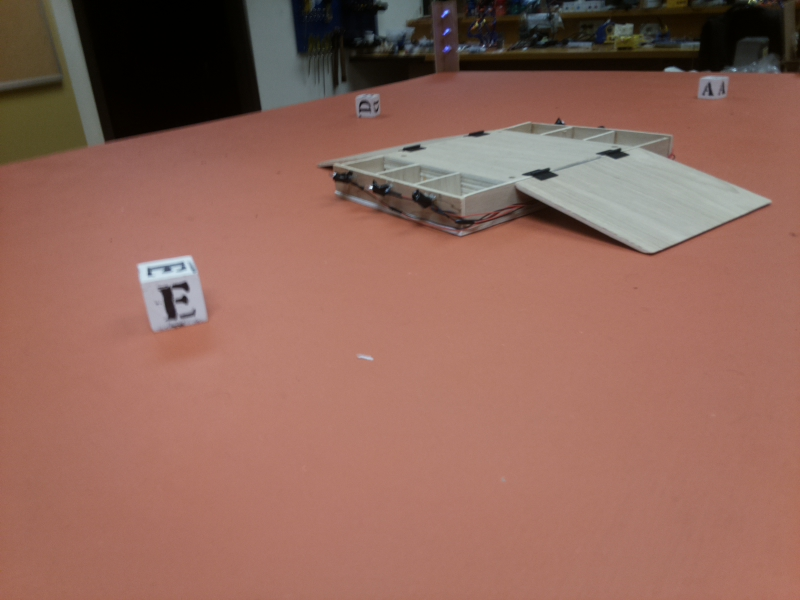blockA: (699, 75, 728, 106)
blockD: (352, 93, 382, 119)
blockE: (135, 256, 206, 332)
side: (327, 162, 465, 250), (520, 116, 673, 139)
slope: (514, 147, 770, 263), (324, 127, 498, 158)
